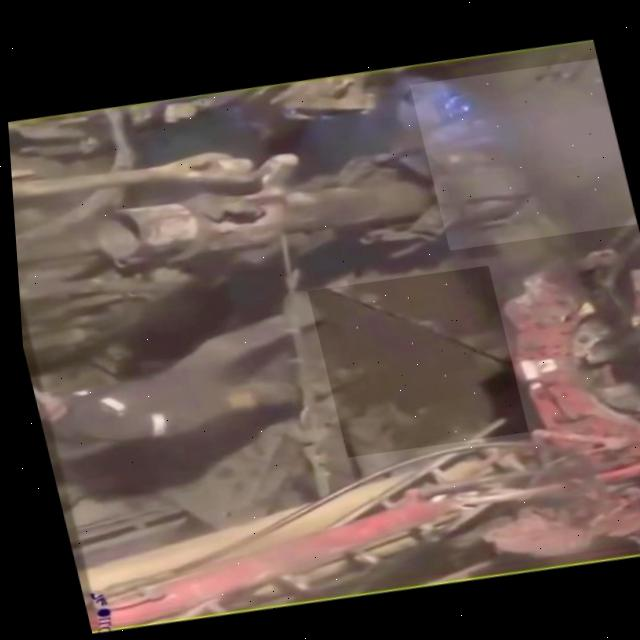spillage: (409, 53, 633, 245), (303, 261, 522, 453)
